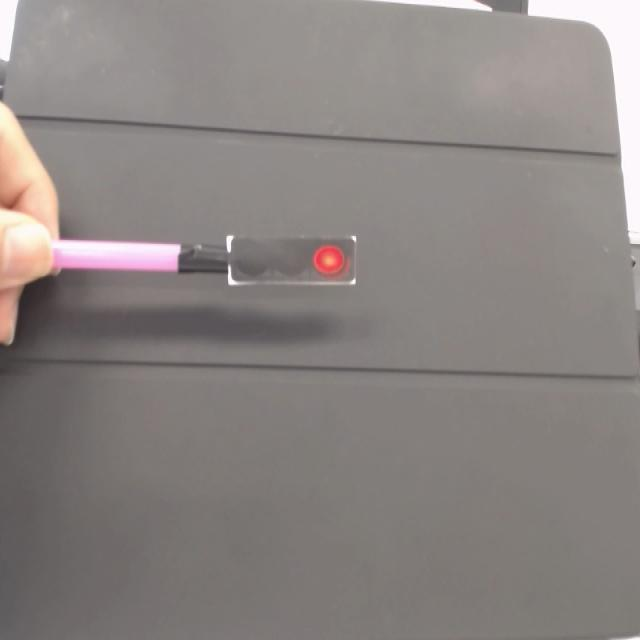traffic light: (226, 235, 361, 291)
